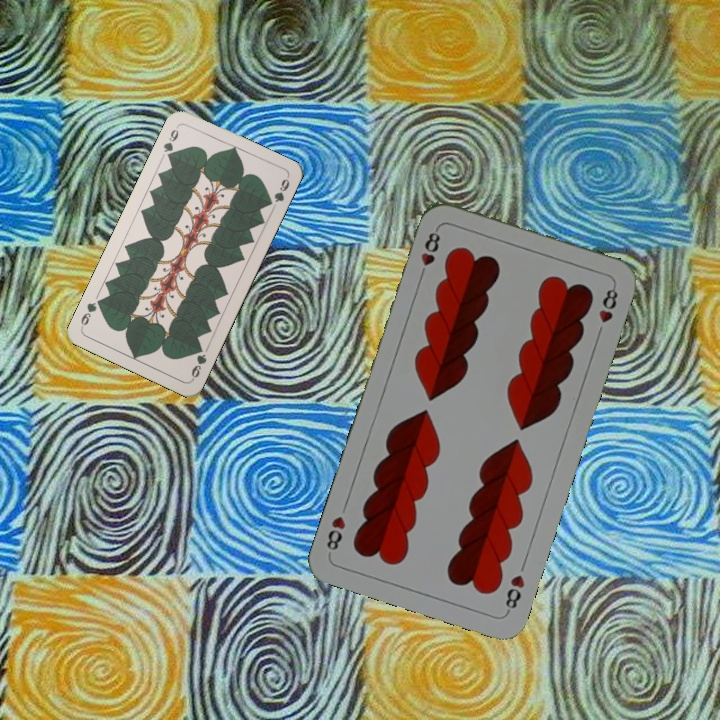G9: (187, 342, 209, 383), (159, 122, 181, 162)
H8: (415, 224, 443, 282), (501, 570, 528, 616)
